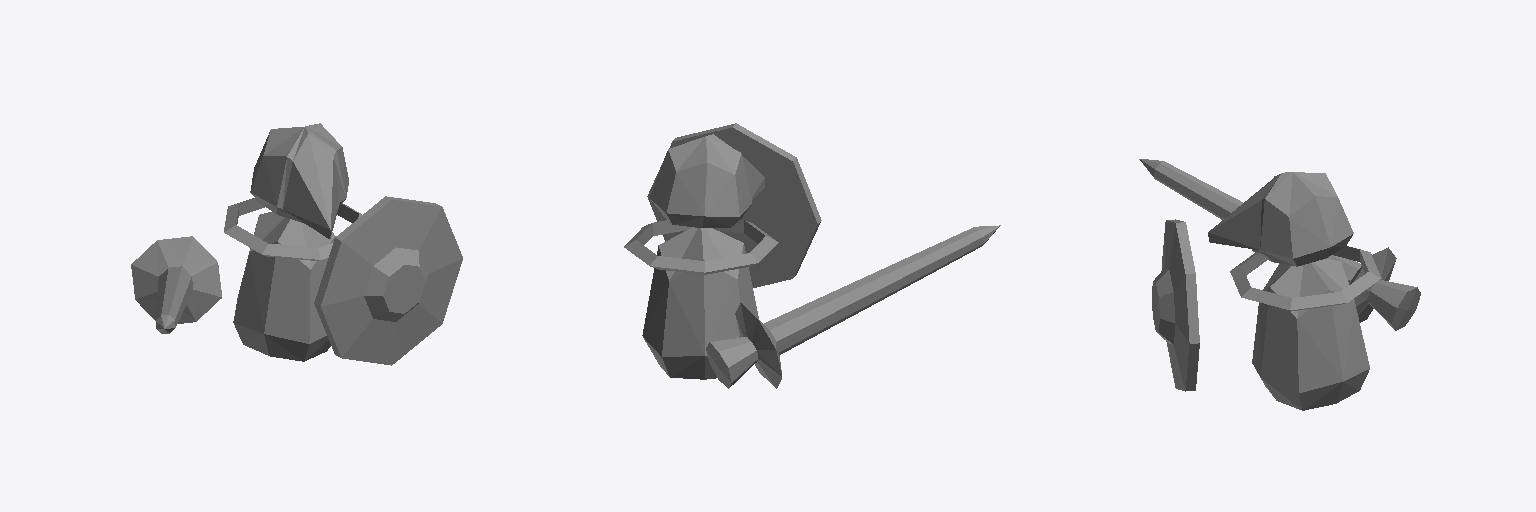
The picture shows the model from 3 angles: view 1: azimuth 30°, elevation 25°; view 2: azimuth 150°, elevation 25°; view 3: azimuth 270°, elevation 25°; orthographic projection.
Parts seen in each view (by area): view 1: meshMinion; view 2: meshMinion; view 3: meshMinion.
Boxes of the visible parts, x1=… form: meshMinion: x1=131, y1=123, x2=462, y2=365; meshMinion: x1=624, y1=123, x2=1000, y2=388; meshMinion: x1=1139, y1=159, x2=1420, y2=410.
Size of the model in its own units: 155 by 101 by 117.